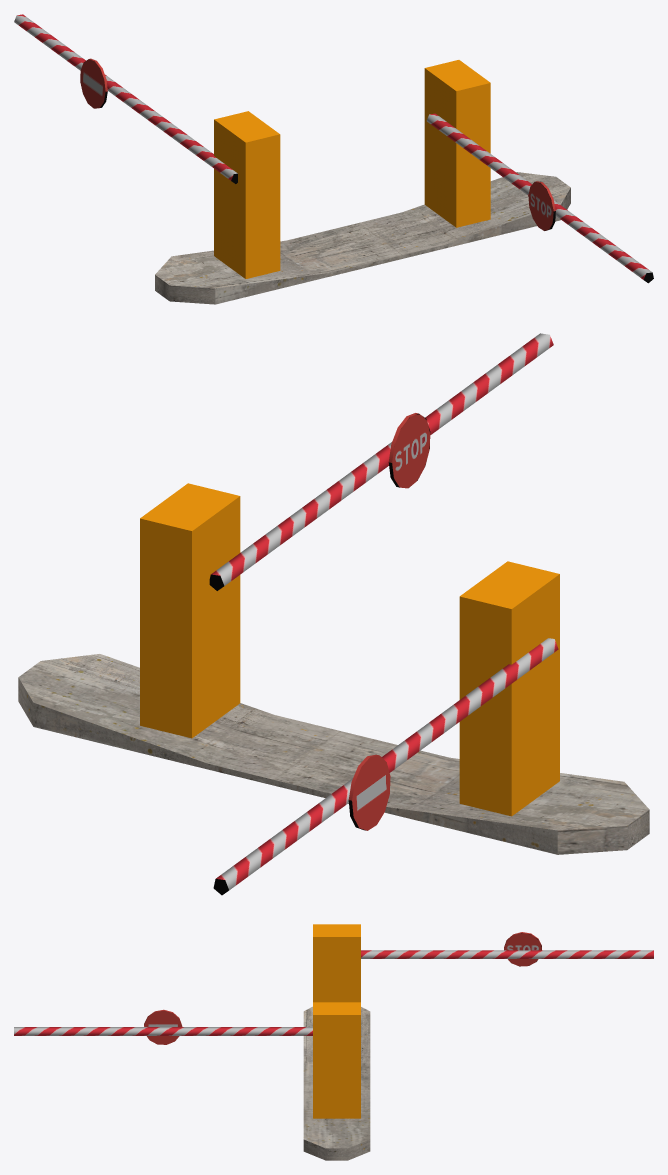
The model's file is Barrier2.FBX.
3 views of the same model, one above another, from view 1: azimuth 30°, elevation 25°; view 2: azimuth 150°, elevation 25°; view 3: azimuth 270°, elevation 25° (orthographic). The views are drawn at different scales.
Visible parts, largest first — view 1: Box010, Object002, Object001; view 2: Box010, Object001, Object002; view 3: Box010, Object002, Object001.
Part boxes in pixels (x1=…): Box010: x1=155, y1=60, x2=570, y2=304; Object002: x1=426, y1=113, x2=653, y2=283; Object001: x1=14, y1=14, x2=237, y2=183; Box010: x1=18, y1=483, x2=649, y2=854; Object001: x1=213, y1=638, x2=558, y2=895; Object002: x1=209, y1=333, x2=553, y2=590; Box010: x1=303, y1=924, x2=370, y2=1160; Object002: x1=14, y1=1009, x2=312, y2=1044; Object001: x1=361, y1=932, x2=653, y2=966.
Bounding box in the file's own units: 0.2441 × 0.4443 × 0.0863.
